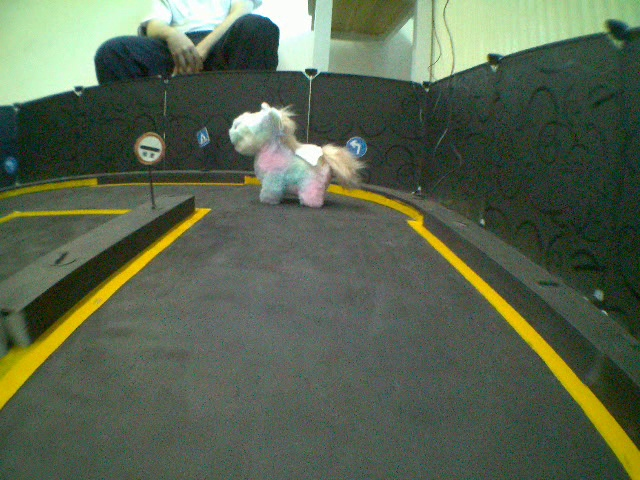unicorn: (225, 100, 367, 213)
